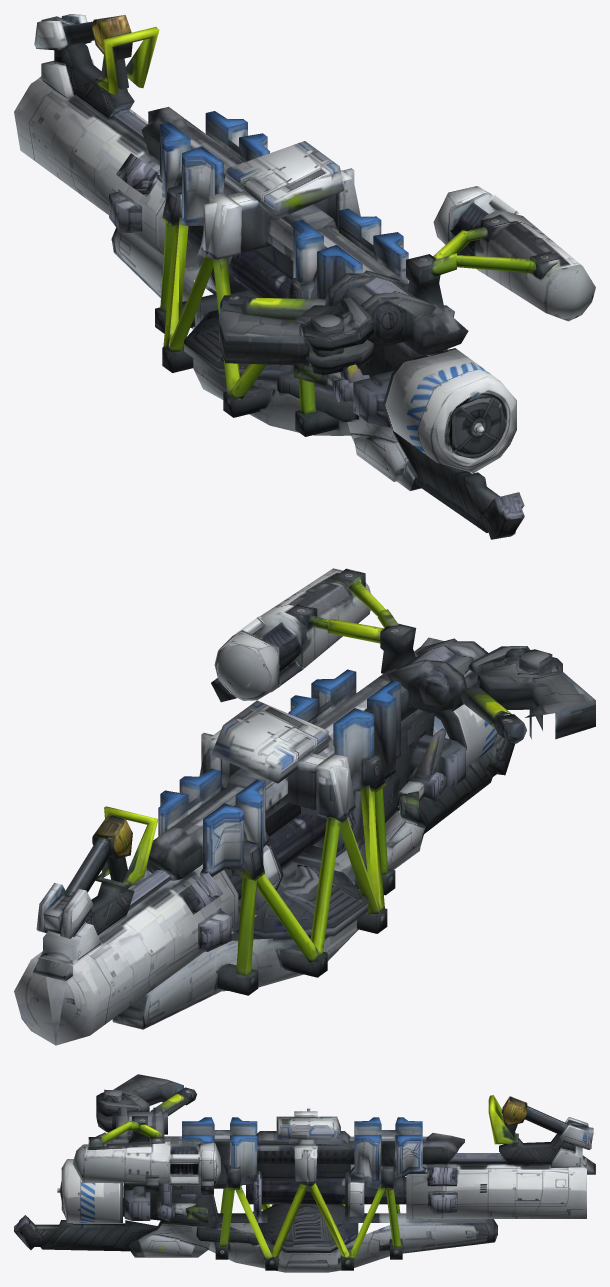
3 views of the same model, one above another, from view 1: azimuth 30°, elevation 25°; view 2: azimuth 150°, elevation 25°; view 3: azimuth 270°, elevation 25° (orthographic). The views are drawn at different scales.
Visible parts, largest first — view 1: gun; view 2: gun; view 3: gun.
Part boxes in pixels (x1,y1,x2,y2): gun: (14,14,595,539); gun: (14,568,595,1045); gun: (14,1074,595,1272).
Bounding box in the file's own units: 3.2 × 2.3 × 7.79.
1 material, 1 textured.
